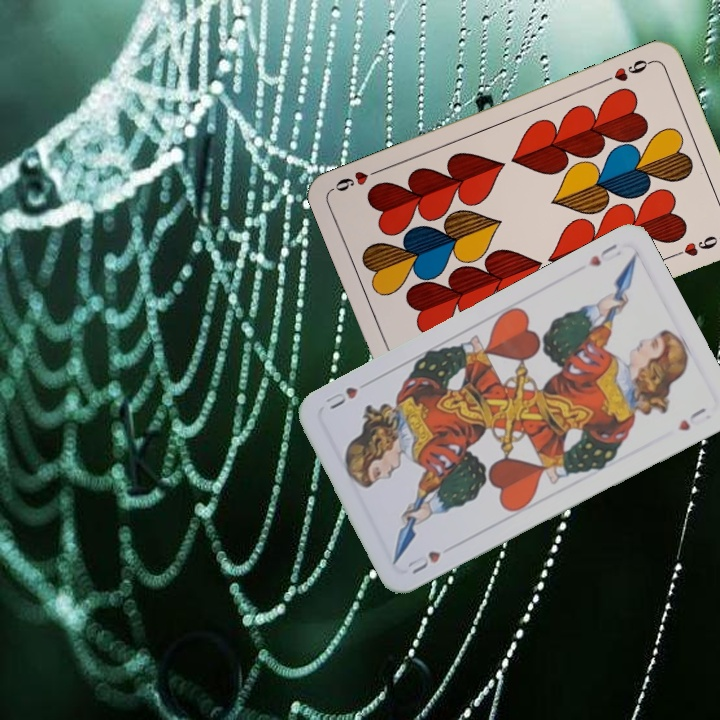H9: (599, 55, 655, 85)
HU: (403, 546, 444, 577), (585, 239, 624, 269)
